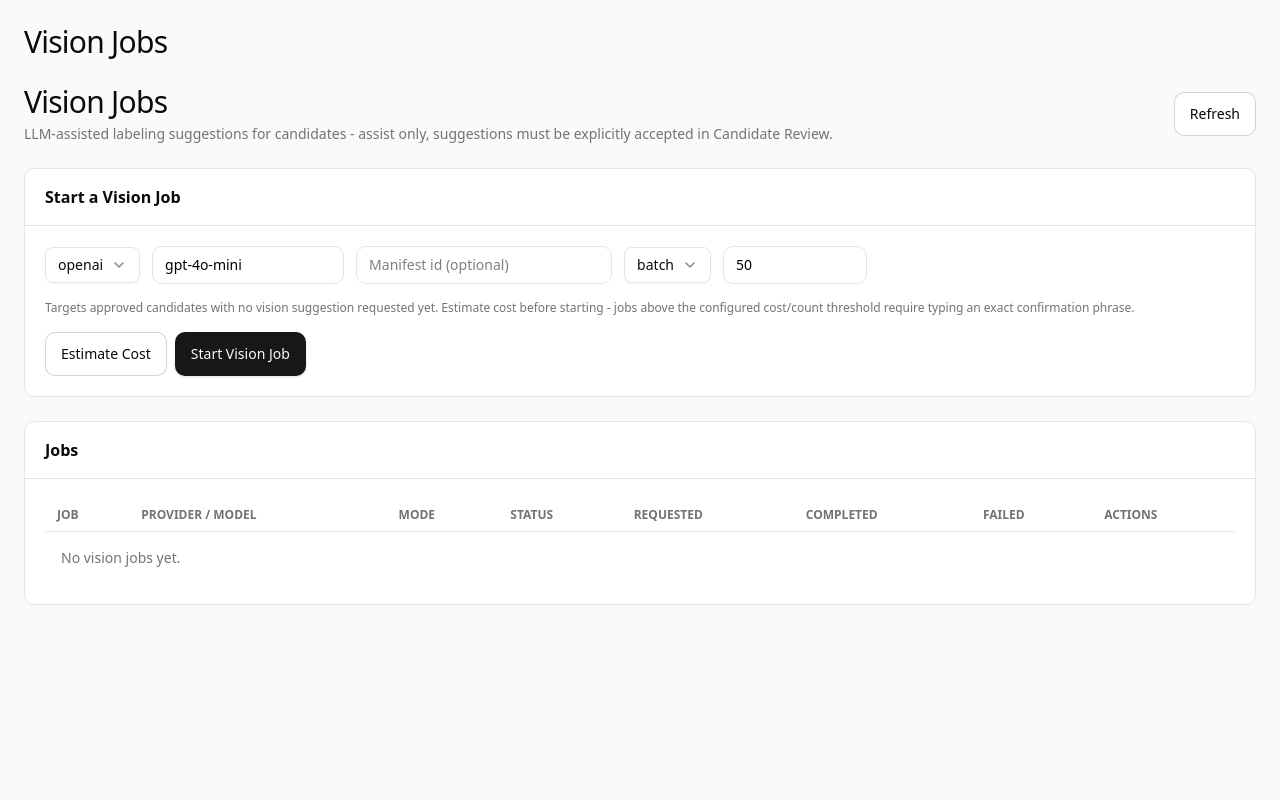
Test: MLHandwritingVisionJobsPage › estimates cost before requiring confirmation to start a job
Step 1. Click the button "Estimate Cost" → (106, 354), box [45,332,167,376]
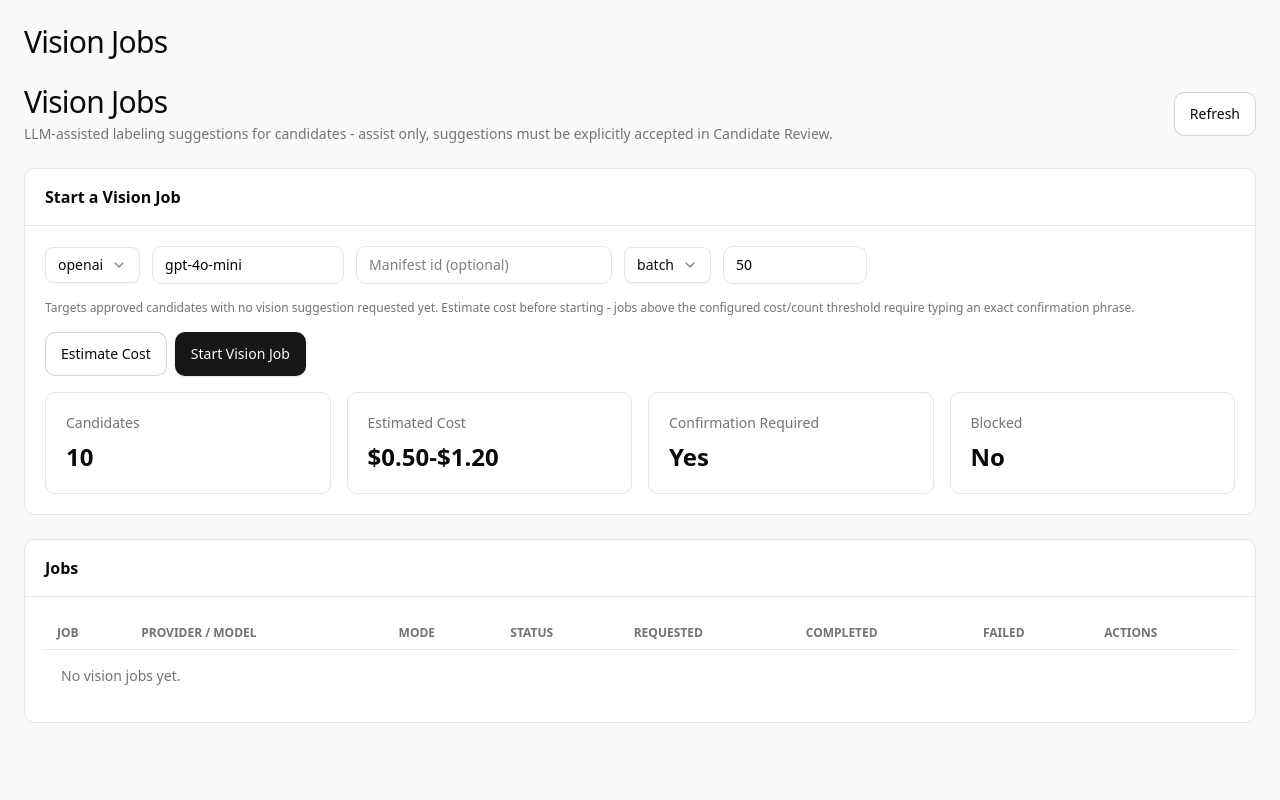
Now the text "$0.50-$1.20" is shown, box [368,440,499,473]
Now the text "Confirmation Required" is shown, box [669,413,819,432]
